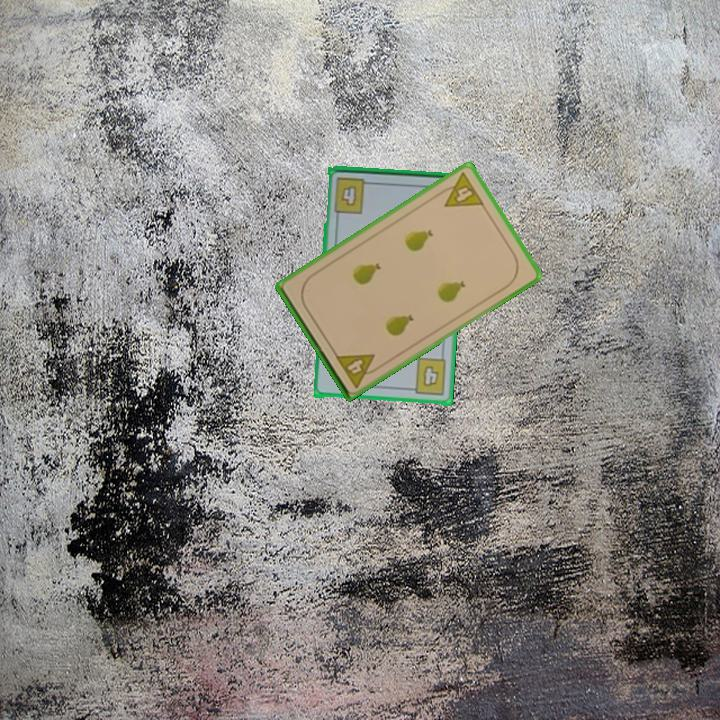4b: (404, 355, 450, 399), (331, 173, 376, 216)
4p: (434, 169, 487, 210), (332, 350, 384, 390)
